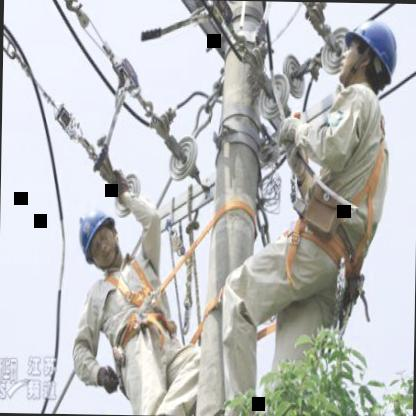helmet: (318, 7, 412, 92), (82, 204, 124, 281)
